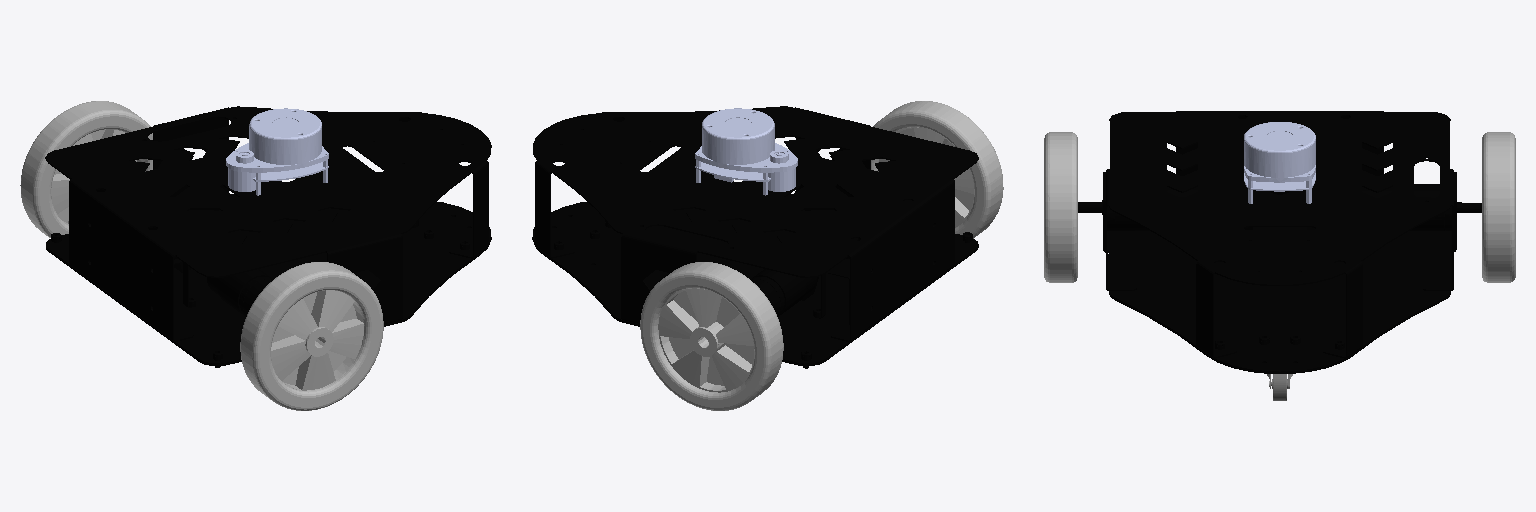
URDF robot description (mobile_robot_v2):
<?xml version="1.0" encoding="utf-8"?>
<!-- This URDF was automatically created by SolidWorks to URDF Exporter! Originally created by [author] ([email redacted]) 
     Commit Version: 1.6.0-4-g7f85cfe  Build Version: 1.6.7995.38578
     For more information, please see http://wiki.ros.org/sw_urdf_exporter -->
<robot
  name="mobile_robot_v2">
  <link 
    name = "footprint">
  </link>
  
    <joint
      name = "fixed"
      type = "fixed">
      <origin
        xyz="0 0 0.04"
        rpy="0 0 0"/>
      <parent link = "footprint"/>
      <child link= "base_link"/>
    </joint>
  <link
    name="base_link">
    <inertial>
      <origin
        xyz="-0.00818472936933741 -0.000678590625686551 0.031438401008672"
        rpy="0 0 0" />
      <mass
        value="0.576525103470766" />
      <inertia
        ixx="0.00525180212282447"
        ixy="8.53434165530126E-07"
        ixz="-9.34427518096429E-05"
        iyy="0.00662229644460686"
        iyz="8.16586652881834E-06"
        izz="0.0114069490761203" />
    </inertial>
    <visual>
      <origin
        xyz="0 0 0"
        rpy="0 0 0" />
      <geometry>
        <mesh
          filename="package://mobile_robot_v2/meshes/base_link.STL" />
      </geometry>
      <material
        name="">
        <color
          rgba="0.0392156862745098 0.0392156862745098 0.0392156862745098 1" />
      </material>
    </visual>
    <collision>
      <origin
        xyz="0 0 0"
        rpy="0 0 0" />
      <geometry>
        <mesh
          filename="package://mobile_robot_v2/meshes/base_link.STL" />
      </geometry>
    </collision>
  </link>
  <link
    name="front_caster_rotation">
    <inertial>
      <origin
        xyz="0.00275087002781431 -3.8048436632486E-05 -0.0106896661075171"
        rpy="0 0 0" />
      <mass
        value="0.00163932270153928" />
      <inertia
        ixx="1.68947110560921E-07"
        ixy="-2.13476212434035E-10"
        ixz="3.49756773423158E-08"
        iyy="1.53524240702112E-07"
        iyz="-4.8368026925958E-10"
        izz="1.81640673602264E-07" />
    </inertial>
    <visual>
      <origin
        xyz="0 0 0"
        rpy="0 0 0" />
      <geometry>
        <mesh
          filename="package://mobile_robot_v2/meshes/front_caster_rotation.STL" />
      </geometry>
      <material
        name="">
        <color
          rgba="0.686274509803922 0.686274509803922 0.686274509803922 1" />
      </material>
    </visual>
    <collision>
      <origin
        xyz="0 0 0"
        rpy="0 0 0" />
      <geometry>
        <mesh
          filename="package://mobile_robot_v2/meshes/front_caster_rotation.STL" />
      </geometry>
    </collision>
  </link>
  <joint
    name="front_caster_rotation_joint"
    type="continuous">
    <origin
      xyz="0.184 0 -0.0016"
      rpy="0 0 0" />
    <parent
      link="base_link" />
    <child
      link="front_caster_rotation" />
    <axis
      xyz="0 0 1" />
  </joint>
  <link
    name="front_caster_wheel">
    <inertial>
      <origin
        xyz="6.92779167366098E-14 1.0096090630185E-13 -0.00700000000002304"
        rpy="0 0 0" />
      <mass
        value="0.0113625256694897" />
      <inertia
        ixx="9.06331517306513E-07"
        ixy="6.67864439182371E-23"
        ixz="4.0939243183212E-22"
        iyy="9.06331517306513E-07"
        iyz="8.40415502354954E-22"
        izz="1.43202222816787E-06" />
    </inertial>
    <visual>
      <origin
        xyz="0 0 0"
        rpy="0 0 0" />
      <geometry>
        <mesh
          filename="package://mobile_robot_v2/meshes/front_caster_wheel.STL" />
      </geometry>
      <material
        name="">
        <color
          rgba="0.498039215686275 0.498039215686275 0.498039215686275 1" />
      </material>
    </visual>
    <collision>
      <origin
        xyz="0 0 0"
        rpy="0 0 0" />
      <geometry>
        <mesh
          filename="package://mobile_robot_v2/meshes/front_caster_wheel.STL" />
      </geometry>
    </collision>
  </link>
  <joint
    name="front_caster_wheel_joint"
    type="continuous">
    <origin
      xyz="0.010096 -0.006861 -0.0244"
      rpy="1.557 -1.5708 0" />
    <parent
      link="front_caster_rotation" />
    <child
      link="front_caster_wheel" />
    <axis
      xyz="0 0 1" />
  </joint>
  <link
    name="rp_lidar">
    <inertial>
      <origin
        xyz="-0.00676806015122415 9.18826098207717E-05 -0.0219029751317191"
        rpy="0 0 0" />
      <mass
        value="0.170369096773262" />
      <inertia
        ixx="7.85144528233466E-05"
        ixy="-1.02594699797501E-07"
        ixz="-2.02793883969737E-05"
        iyy="0.000122718368622727"
        iyz="3.97473689157691E-07"
        izz="0.000140428163899051" />
    </inertial>
    <visual>
      <origin
        xyz="0 0 0"
        rpy="0 0 0" />
      <geometry>
        <mesh
          filename="package://mobile_robot_v2/meshes/sensors/rp_lidar.STL" />
      </geometry>
      <material
        name="">
        <color
          rgba="0.792156862745098 0.819607843137255 0.933333333333333 1" />
      </material>
    </visual>
    <collision>
      <origin
        xyz="0 1111 0"
        rpy="0 1111 0" />
      <geometry>
        <mesh
          filename="package://mobile_robot_v2/meshes/sensors/hokuyo.dae" />
      </geometry>
    </collision>
  </link>
  <joint
    name="rp_lidar_joint"
    type="fixed">
    <origin
      xyz="0.011811 0 0.1522"
      rpy="0 0 0" />
    <parent
      link="base_link" />
    <child
      link="rp_lidar" />
    <axis
      xyz="0 0 0" />
  </joint>
  <link
    name="rear_right_wheel">
    <inertial>
      <origin
        xyz="-1.47104550762833E-15 0.0156021168327709 -1.63757896132211E-15"
        rpy="0 0 0" />
      <mass
        value="0.335246550060458" />
      <inertia
        ixx="0.000556427367899459"
        ixy="-9.22942640635914E-19"
        ixz="-2.69725727134846E-20"
        iyy="0.00106371956621461"
        iyz="-8.72914457924714E-19"
        izz="0.000556427367899459" />
    </inertial>
    <visual>
      <origin
        xyz="0 0 0"
        rpy="0 0 0" />
      <geometry>
        <mesh
          filename="package://mobile_robot_v2/meshes/rear_right_wheel.STL" />
      </geometry>
      <material
        name="">
        <color
          rgba="0.745098039215686 0.745098039215686 0.745098039215686 1" />
      </material>
    </visual>
    <collision>
      <origin
        xyz="0 0 0"
        rpy="0 0 0" />
      <geometry>
        <mesh
          filename="package://mobile_robot_v2/meshes/rear_right_wheel.STL" />
      </geometry>
    </collision>
  </link>
  <joint
    name="rear_right_wheel_joint"
    type="continuous">
    <origin
      xyz="-0.081026 -0.22709 0.0335"
      rpy="0 0 0" />
    <parent
      link="base_link" />
    <child
      link="rear_right_wheel" />
    <axis
      xyz="0 1 0" />
  </joint>
  <link
    name="rear_left_wheel">
    <inertial>
      <origin
        xyz="6.93889390390723E-16 -0.0163978831672308 2.77555756156289E-17"
        rpy="0 0 0" />
      <mass
        value="0.335246550060458" />
      <inertia
        ixx="0.000556427367899459"
        ixy="-9.96062939791216E-19"
        ixz="-1.32872456944108E-20"
        iyy="0.00106371956621461"
        iyz="-8.85952845790982E-19"
        izz="0.000556427367899459" />
    </inertial>
    <visual>
      <origin
        xyz="0 0 0"
        rpy="0 0 0" />
      <geometry>
        <mesh
          filename="package://mobile_robot_v2/meshes/rear_left_wheel.STL" />
      </geometry>
      <material
        name="">
        <color
          rgba="0.745098039215686 0.745098039215686 0.745098039215686 1" />
      </material>
    </visual>
    <collision>
      <origin
        xyz="0 0 0"
        rpy="0 0 0" />
      <geometry>
        <mesh
          filename="package://mobile_robot_v2/meshes/rear_left_wheel.STL" />
      </geometry>
    </collision>
  </link>
  <joint
    name="rear_left_wheel_joint"
    type="continuous">
    <origin
      xyz="-0.081026 0.22731 0.0335"
      rpy="0 0 0" />
    <parent
      link="base_link" />
    <child
      link="rear_left_wheel" />
    <axis
      xyz="0 1 0" />
  </joint>

    <!--diff  driver plugin -->
  <gazebo>
      <plugin name="gazebo_ros_control" filename="libgazebo_ros_control.so">
        <robotNamespace>/</robotNamespace>
        <controlPeriod>0.001</controlPeriod>
        <legacyModeNS>false</legacyModeNS>
      </plugin>
    </gazebo>
  <!--######################################################################-->
  <gazebo>
      <plugin name="diff_drive_controller" filename="libgazebo_ros_diff_drive.so">
        <legacyMode>false</legacyMode>
        <alwaysOn>true</alwaysOn>
        <updateRate>1000.0</updateRate>
        <leftJoint>rear_left_wheel_joint</leftJoint>
        <rightJoint>rear_right_wheel_joint</rightJoint>
        <wheelSeparation>0.4</wheelSeparation>
        <wheelDiameter>0.2</wheelDiameter>
        <wheelTorque>10</wheelTorque>
        <publishTf>1</publishTf>
        <odometryFrame>/odom</odometryFrame>
        <commandTopic>/kbot/i_robotlab/cmd_vel</commandTopic>
        <odometryTopic>/kbot/i_robotlab/odom</odometryTopic>
        <robotBaseFrame>footprint</robotBaseFrame>
        <wheelAcceleration>2.8</wheelAcceleration>
        <publishWheelJointState>true</publishWheelJointState>
        <publishWheelTF>true</publishWheelTF>
        <odometrySource>world</odometrySource>
        <rosDebugLevel>Debug</rosDebugLevel>
      </plugin>
  </gazebo>
  <!--######################################################################-->
  <gazebo reference="rear_left_wheel_joint">
  <mu1 value="1.0"/>
  <mu2 value="1.0"/>
  <kp value="10000000.0" />
  <kd value="1.0" />
  <fdir1 value="1 0 0"/>
  </gazebo>

  <gazebo reference="rear_right_wheel_joint">
  <mu1 value="1.0"/>
  <mu2 value="1.0"/>
  <kp value="10000000.0" />
  <kd value="1.0" />
  <fdir1 value="1 0 0"/>
  </gazebo>
  

  <!--######################################################################-->
  <transmission name="left_wheel_trans" type="SimpleTransmission">
    <type>transmission_interface/SimpleTransmission</type>
    <actuator name="left_wheel_motor">
    <hardwareInterface>hardware_interface/VelocityJointInterface</hardwareInterface>
    <mechanicalReduction>1</mechanicalReduction>
    </actuator>
    <joint name="rear_left_wheel_joint">
    <hardwareInterface>hardware_interface/VelocityJointInterface</hardwareInterface>
    </joint>
  </transmission>

  <transmission name="right_wheel_trans" type="SimpleTransmission">
    <type>transmission_interface/SimpleTransmission</type>
    <actuator name="right_wheel_motor">
    <hardwareInterface>hardware_interface/VelocityJointInterface</hardwareInterface>
    <mechanicalReduction>1</mechanicalReduction>
    </actuator>
    <joint name="rear_right_wheel_joint">
    <hardwareInterface>hardware_interface/VelocityJointInterface</hardwareInterface>
    </joint>
  </transmission>

<!-- hokuyo -->
  <gazebo reference="rp_lidar">
    <sensor type="ray" name="head_hokuyo_sensor">
      <pose>0.01 0 0.03 0 -0 0</pose>
      <visualize>true</visualize>
      <update_rate>10</update_rate>
      <ray>
        <scan>
          <horizontal>
            <samples>640</samples>
            <resolution>1</resolution>
            <min_angle>-3.141592</min_angle>
            <max_angle>3.141592</max_angle>
          </horizontal>
        </scan>
        <range>
          <min>0.1</min>
          <max>12.0</max>
          <resolution>0.01</resolution>
        </range>
        <noise>
          <type>gaussian</type>
          <!--Noise parameters based on published spec for Hokuyo laser
               achieving "+-30mm" accuracy at range < 10m.  A mean of 0.0m and
               stddev of 0.01m will put 99.7% of samples within 0.03m of the true
               reading. --> 
          <mean>0.0</mean>
          <stddev>0.01</stddev>
        </noise>
      </ray>
      <plugin 
      name="gazebo_ros_head_hokuyo_controller" filename="libgazebo_ros_laser.so">
         <always_on>1</always_on>
        <update_rate>30</update_rate>
        <visualize>true</visualize>
        <topicName>/kbot/i_robotlab/scan</topicName>
        <frameName>rp_lidar</frameName>
      </plugin>
    </sensor>
  </gazebo> 
</robot>

--- What the picture shows (computed from the rendered views, not written in the file) ---
3 views of the same robot in one strip: view 1: azimuth 30°, elevation 25°; view 2: azimuth 150°, elevation 25°; view 3: azimuth 270°, elevation 25° (orthographic).
Model mobile_robot_v2 with 7 links and 6 joints (4 continuous, 2 fixed), rooted at footprint, posed all joints at 0.
Visible links, largest first — view 1: base_link, rear_right_wheel, rear_left_wheel, rp_lidar; view 2: base_link, rear_left_wheel, rear_right_wheel, rp_lidar; view 3: base_link, rear_right_wheel, rear_left_wheel, rp_lidar.
Link boxes in pixels (x1,y1,x2,y2): base_link: (45, 106, 491, 367); rear_right_wheel: (240, 262, 383, 410); rear_left_wheel: (20, 101, 152, 237); rp_lidar: (226, 108, 328, 195); base_link: (532, 106, 978, 368); rear_left_wheel: (640, 262, 783, 410); rear_right_wheel: (871, 101, 1003, 238); rp_lidar: (695, 108, 797, 195); base_link: (1078, 111, 1481, 373); rear_right_wheel: (1044, 132, 1077, 282); rear_left_wheel: (1482, 132, 1515, 282); rp_lidar: (1244, 122, 1315, 203).
Bounding box of the posed robot: 0.399 × 0.4544 × 0.1947 m (x, y, z).
Meshes: 6 distinct files referenced, 6 mesh visuals loaded (6 binary STL).
